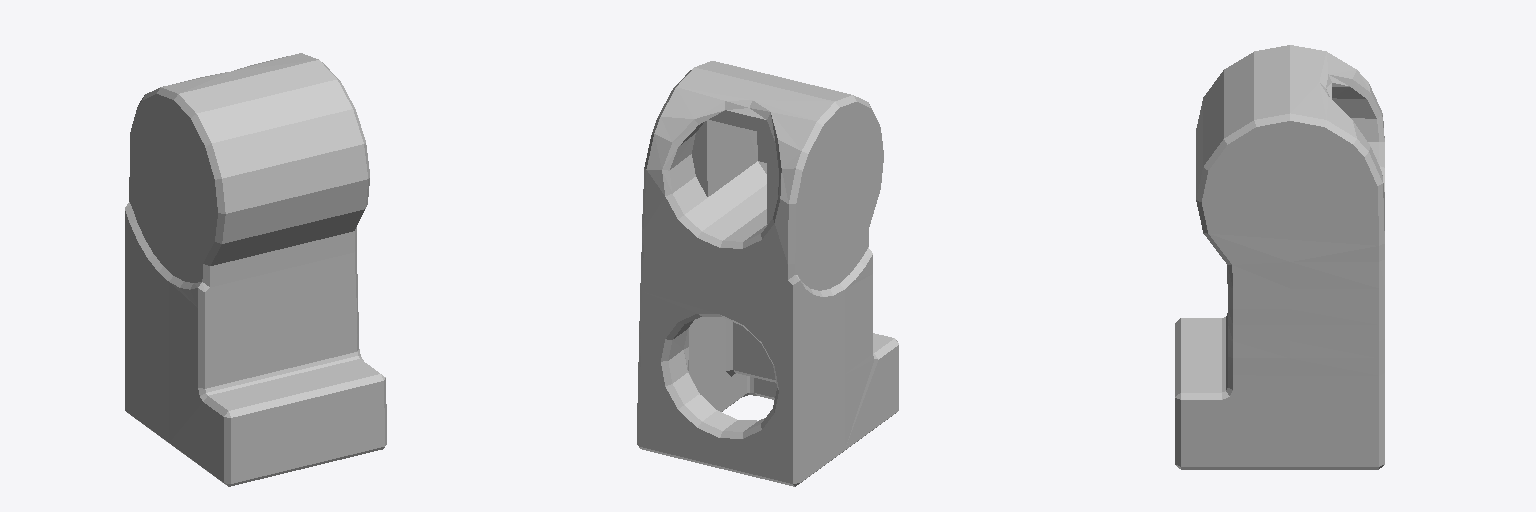
Rendered from SantaLeftLeg.obj.
The picture shows the model from 3 angles: view 1: azimuth 30°, elevation 25°; view 2: azimuth 150°, elevation 25°; view 3: azimuth 270°, elevation 25°; orthographic projection.
Visible parts, largest first — view 1: Mesh_0142.014_Mesh_0142Mesh.001; view 2: Mesh_0142.014_Mesh_0142Mesh.001; view 3: Mesh_0142.014_Mesh_0142Mesh.001.
Part boxes in pixels (x1,y1,x2,y2): Mesh_0142.014_Mesh_0142Mesh.001: (125,53,386,486); Mesh_0142.014_Mesh_0142Mesh.001: (637,61,898,486); Mesh_0142.014_Mesh_0142Mesh.001: (1175,45,1384,469).
Size of the model in its own units: 0.0686 by 0.141 by 0.0762.